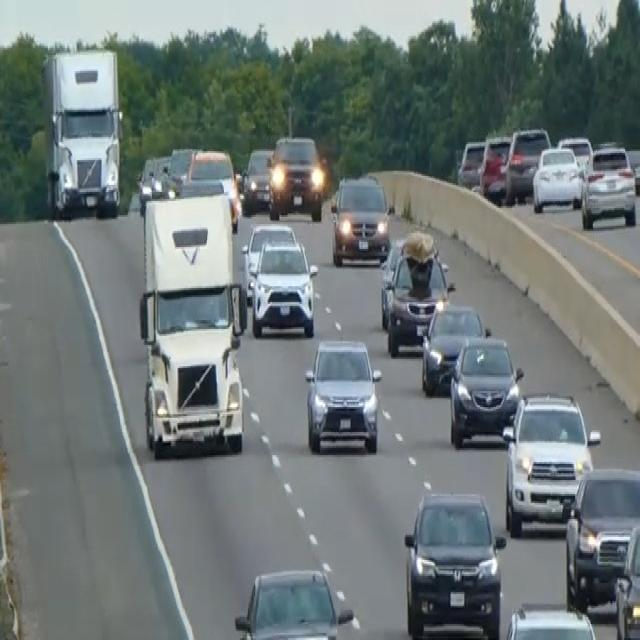car: (402, 487, 505, 638), (502, 387, 599, 537), (564, 464, 639, 608), (303, 334, 382, 455), (233, 564, 354, 638), (448, 332, 523, 448), (385, 231, 452, 356), (249, 236, 317, 338), (419, 297, 489, 395), (329, 170, 391, 266), (267, 132, 325, 220), (179, 146, 240, 229), (580, 143, 637, 230), (240, 218, 297, 300), (501, 599, 601, 638), (504, 124, 551, 204), (531, 142, 583, 214), (614, 518, 639, 638), (378, 235, 406, 327), (478, 132, 512, 202), (241, 144, 274, 212), (136, 153, 170, 211), (162, 144, 196, 196), (557, 133, 593, 178), (456, 137, 486, 188)
lorry: (137, 188, 247, 458), (40, 46, 123, 220)
